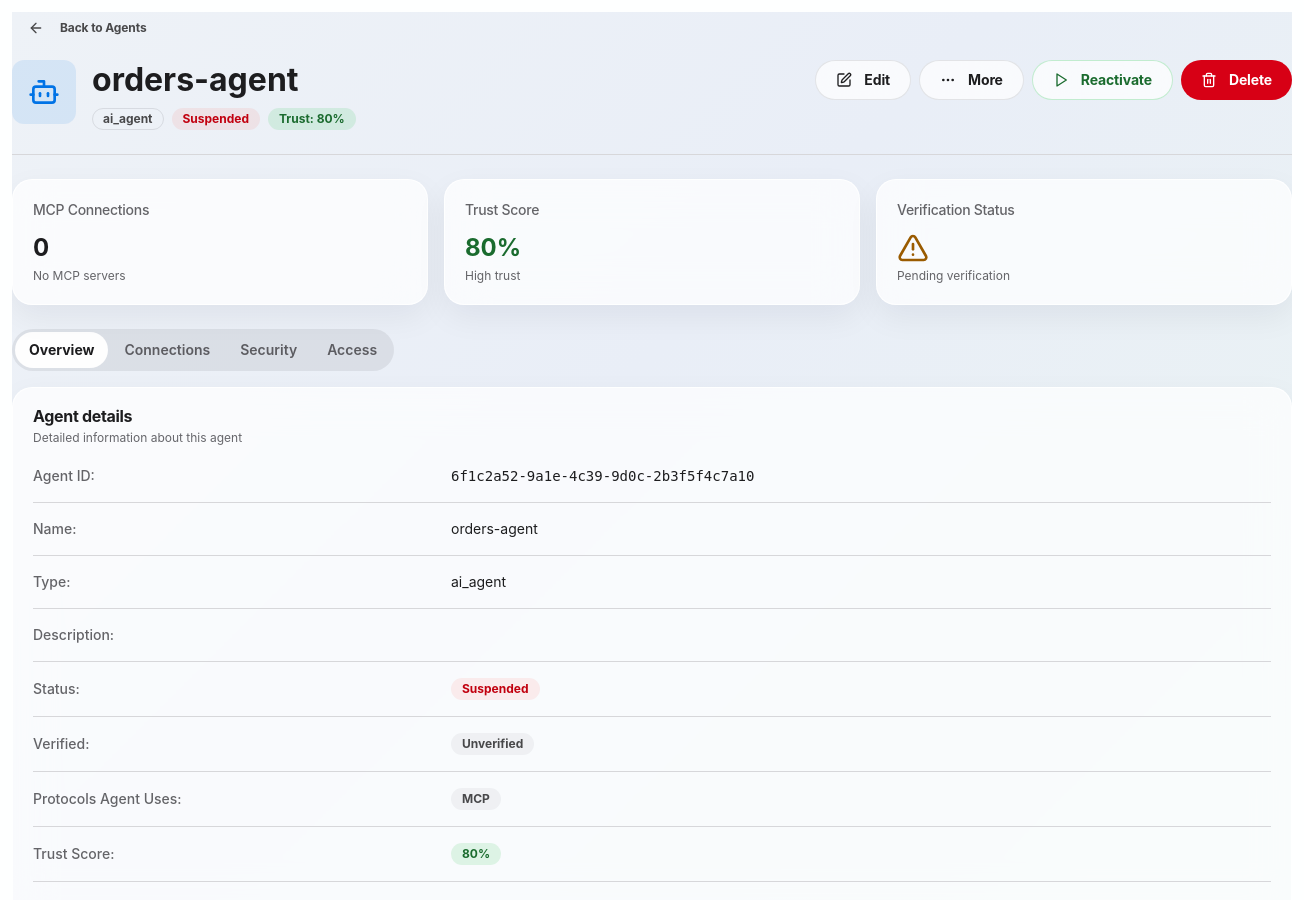
Test: agent page lifecycle outcomes › links back to the list when the agent no longer exists
Click the button "Reactivate" at (1102, 80), box [1032,60,1173,100]
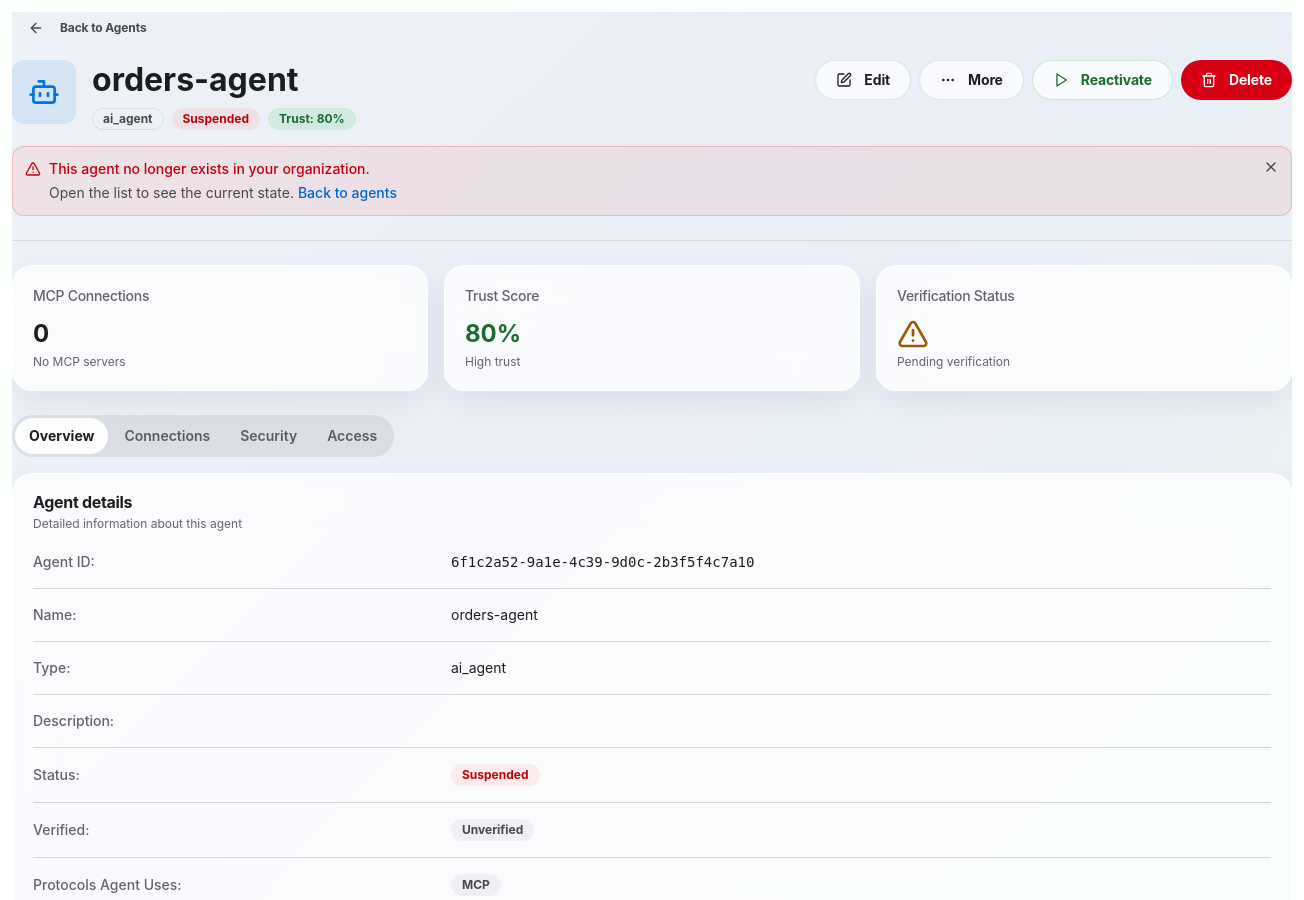
Expected: the text "This agent no longer exists in your organization." is shown, [49,160,370,177]
